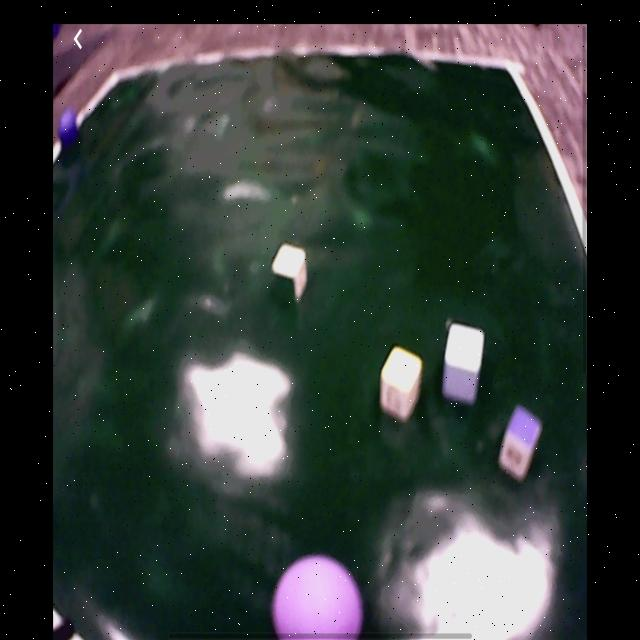ball: (272, 555, 362, 637), (57, 110, 77, 144)
